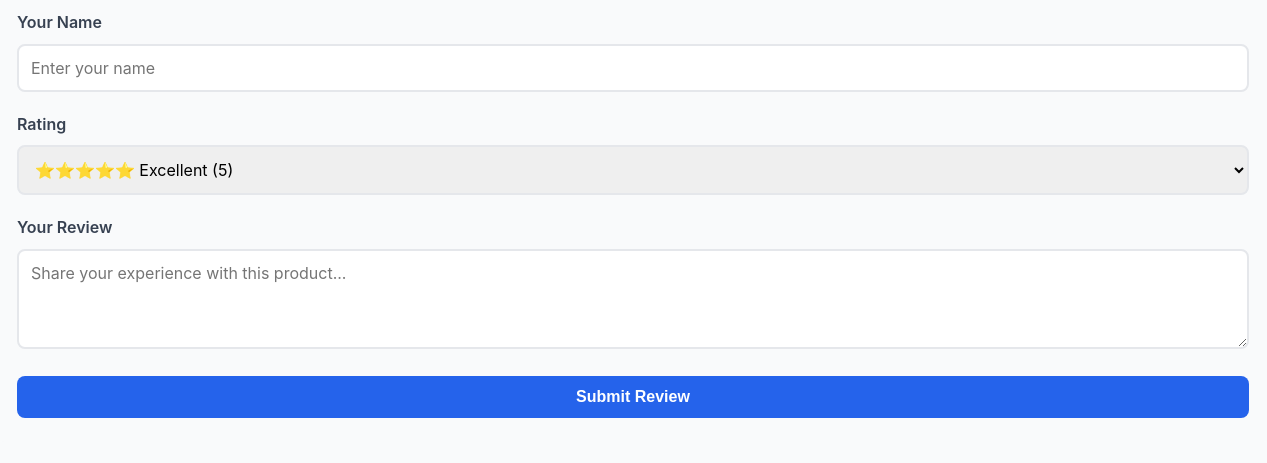
Test: ReviewForm › shows validation error when comment is too short
The width and height of the screenshot is (1267, 463).
Type "John Doe" into the field labelled "Your Name". click: (633, 68)
box: x1=17 y1=44 x2=1249 y2=92
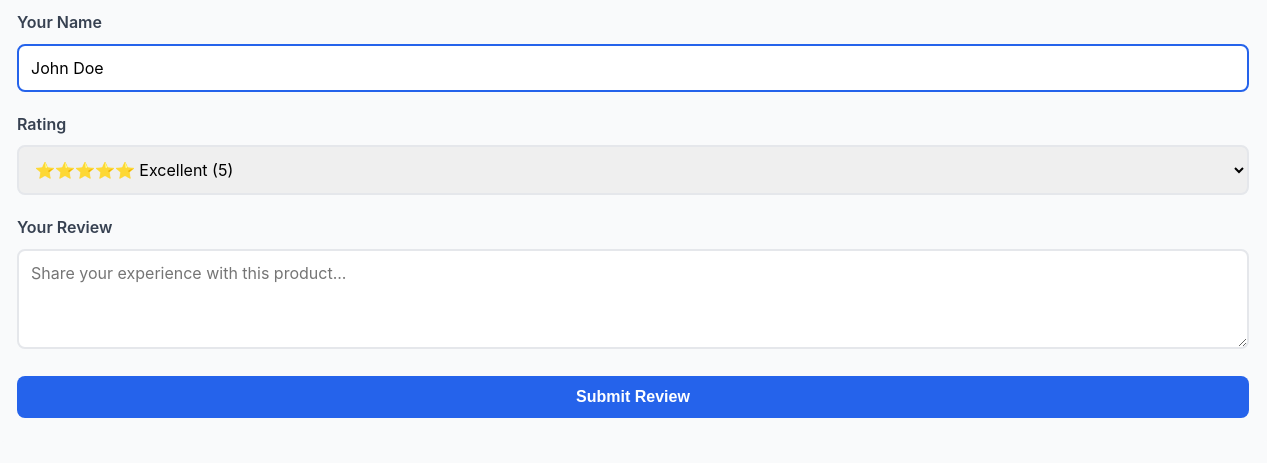
Type "Short" into the text box labelled "Your Review". click: (633, 299)
box: x1=17 y1=249 x2=1249 y2=349
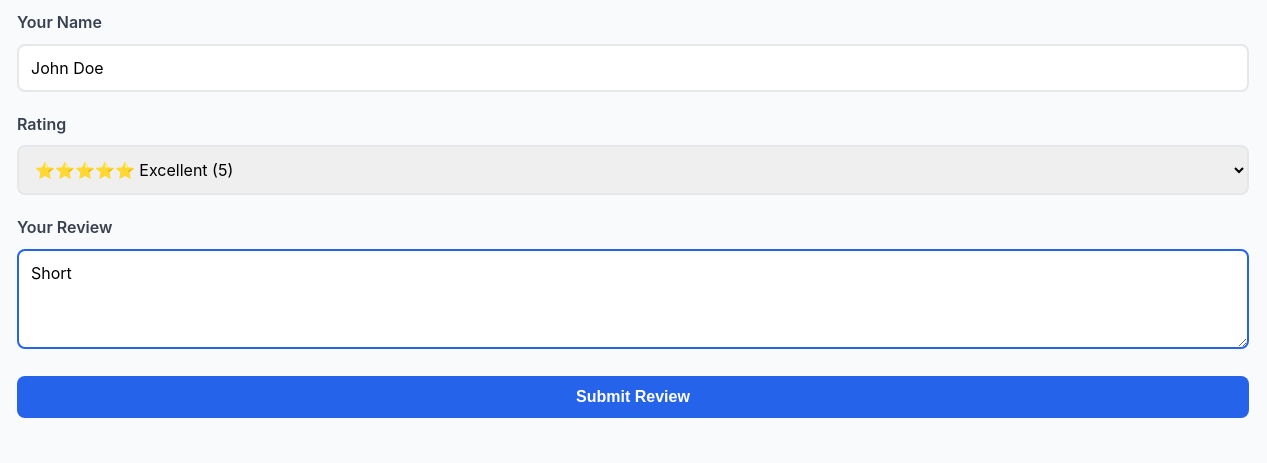
Click the button "Submit Review". click: click(633, 397)
box: x1=17 y1=376 x2=1249 y2=418
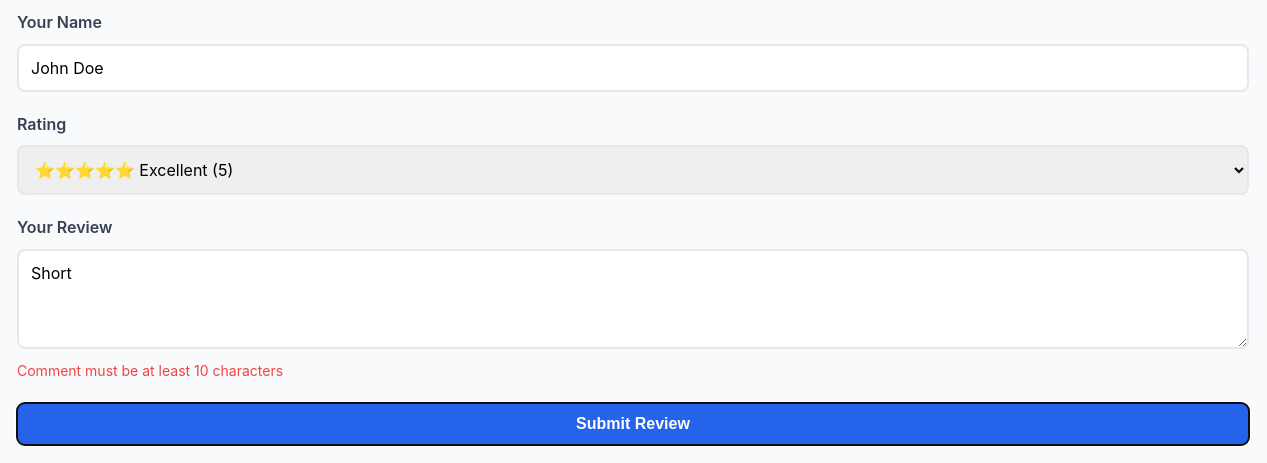
Now the text "Comment must be at least 10 characters" is shown, box x1=17 y1=362 x2=283 y2=379
